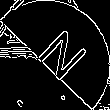N_SW: (24, 23, 86, 87)
